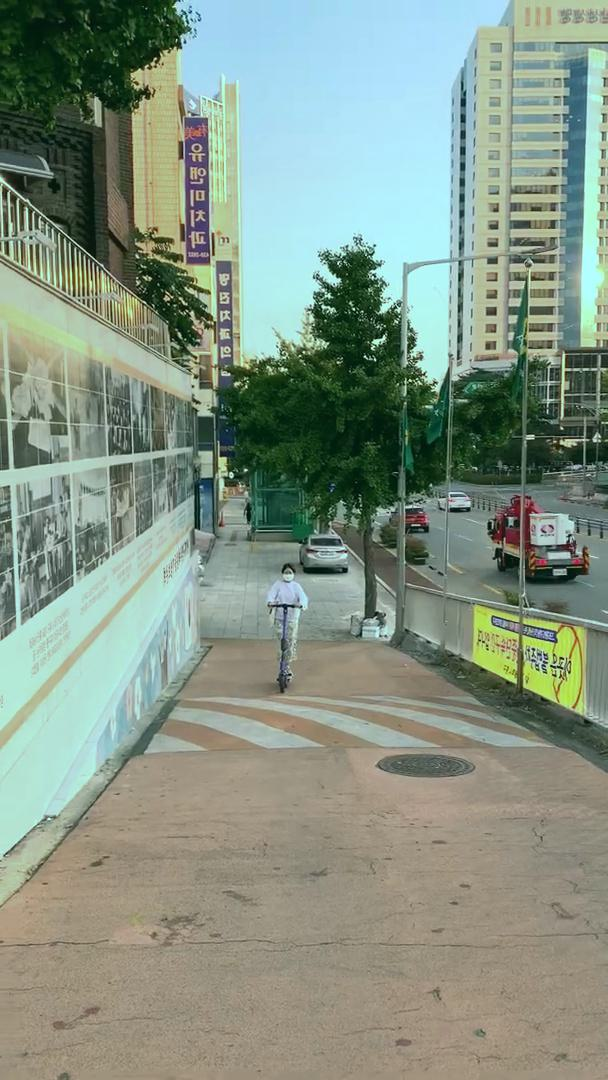nonhelmet: (261, 560, 309, 696)
